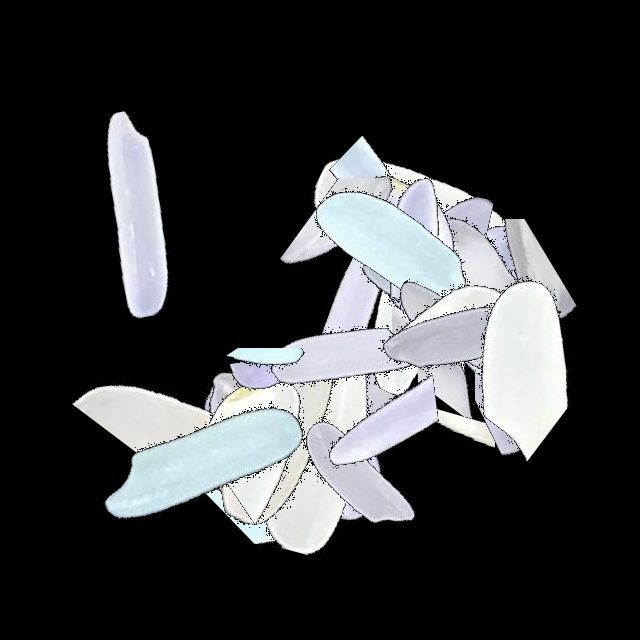Broken: (370, 174, 544, 424), (415, 228, 587, 478), (289, 227, 539, 381), (235, 339, 485, 492), (224, 345, 474, 497), (62, 321, 312, 472), (285, 156, 535, 306), (285, 147, 535, 297), (209, 310, 355, 560), (159, 402, 409, 544), (247, 178, 497, 314), (392, 190, 520, 440), (363, 219, 613, 346), (408, 158, 530, 408), (475, 261, 592, 511), (327, 243, 577, 360), (168, 353, 418, 467), (418, 229, 529, 479), (260, 136, 510, 247), (419, 195, 521, 445), (125, 348, 375, 442), (349, 293, 599, 385), (295, 291, 545, 380), (382, 168, 471, 418), (407, 333, 495, 583), (269, 357, 348, 607), (444, 189, 519, 439)
Full: (10, 87, 260, 337), (137, 293, 387, 543), (136, 317, 386, 567), (210, 339, 460, 589), (300, 172, 550, 422), (344, 150, 594, 400), (364, 211, 614, 461), (284, 92, 534, 342), (227, 191, 477, 441), (356, 143, 606, 393), (166, 286, 416, 536), (123, 350, 373, 600), (350, 157, 600, 407), (300, 171, 550, 421), (281, 102, 531, 352), (192, 323, 442, 573), (150, 307, 400, 557), (232, 351, 482, 601), (77, 341, 327, 591), (278, 125, 528, 375), (335, 208, 585, 458), (221, 234, 471, 484), (327, 216, 577, 466)
